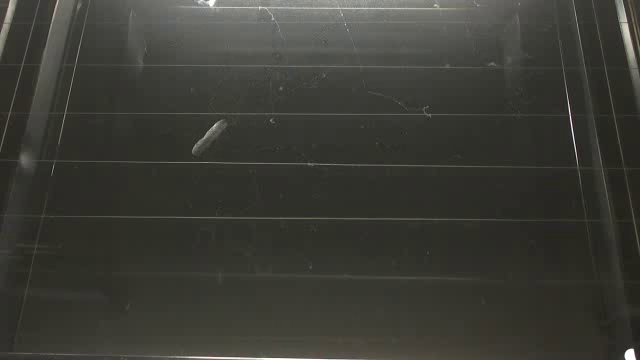Alfa: (189, 118, 232, 158)
